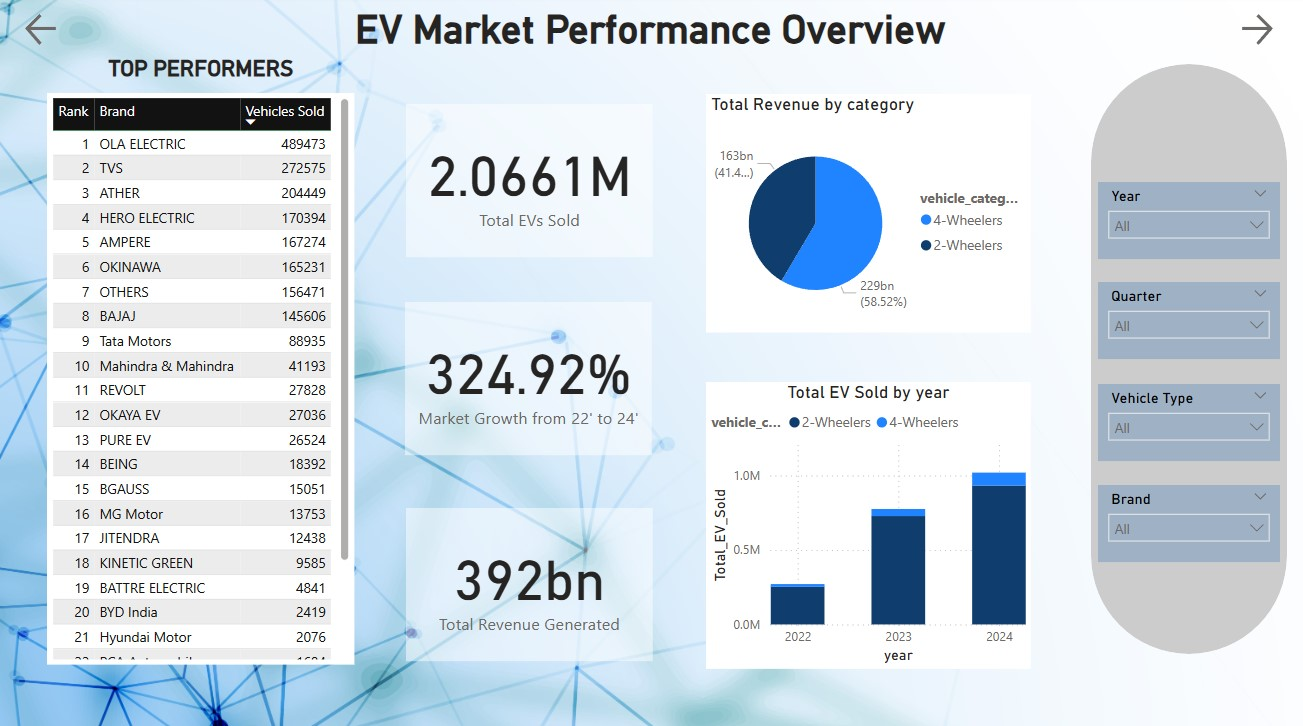

Layout of this report page (visuals, bound fields, positions):
{"tool":"powerbi","page":{"name":"Page 1","canvas":[1280,720],"ordinal":1},"visuals":[{"type":"shape","box":[1068,66.1,190.6,573.9],"z":0,"group":"g1"},{"type":"tableEx","fields":{"Values":["electric_vehicle_sales_by_maker.Rank_Sales","electric_vehicle_sales_by_maker.maker","electric_vehicle_sales_by_maker.Total_EV_Sold"]},"box":[52.5,94.3,298.6,556.4],"z":0},{"type":"textbox","box":[107,52.5,198.4,36],"z":1000},{"type":"slicer","fields":{"Values":["dim_date.fiscal_year"]},"box":[1074.8,180.9,177,74.9],"z":1000,"group":"g1"},{"type":"card","fields":{"Values":["electric_vehicle_sales_by_maker.Total_EV_Sold"]},"box":[401.7,105,240.2,148.8],"z":2000},{"type":"slicer","fields":{"Values":["dim_date.quarter"]},"box":[1074.8,278.1,177,74.9],"z":3000,"group":"g1"},{"type":"card","fields":{"Values":["electric_vehicle_sales_by_maker.Total_Growth"]},"box":[400.7,297.6,240.2,148.8],"z":3000},{"type":"card","fields":{"Values":["electric_vehicle_sales_by_maker.Total_Revenue"]},"box":[401.7,498,240.2,148.8],"z":4000},{"type":"slicer","fields":{"Values":["electric_vehicle_sales_by_maker.vehicle_category"]},"box":[1074.8,377.3,177,74.9],"z":5000,"group":"g1"},{"type":"columnChart","title":"Total EV Sold by year","fields":{"Y":["electric_vehicle_sales_by_maker.Total_EV_Sold"],"Category":["dim_date.fiscal_year"],"Series":["electric_vehicle_sales_by_maker.vehicle_category"]},"box":[693.5,375.4,316.1,279.1],"z":5000},{"type":"group","id":"g1","title":"Group 1","box":[1068,66.1,190.6,573.9],"z":6000},{"type":"pieChart","title":"Total Revenue by category","fields":{"Category":["electric_vehicle_sales_by_maker.vehicle_category"],"Y":["electric_vehicle_sales_by_maker.Total_Revenue"]},"box":[693.5,95.3,316.1,232.5],"z":7000},{"type":"slicer","fields":{"Values":["electric_vehicle_sales_by_maker.maker"]},"box":[1074.8,475.6,177,74.9],"z":7000,"group":"g1"},{"type":"actionButton","box":[1209,12.6,42.8,39.9],"z":7001},{"type":"actionButton","box":[27.2,12.6,46.7,39.9],"z":7002},{"type":"textbox","box":[123.5,4.9,1032,61.3],"z":7003}]}

Visuals, with their boxes in screenshot pixels (x1, y1, x2, y2), scaled from the page's 1280x720 canvas onto the 1303x726 screenshot:
shape: 1087/67/1281/645
tableEx - electric_vehicle_sales_by_maker.Rank_Sales x electric_vehicle_sales_by_maker.maker: 53/95/357/656
textbox: 109/53/311/89
slicer - dim_date.fiscal_year: 1094/182/1274/258
card - electric_vehicle_sales_by_maker.Total_EV_Sold: 409/106/653/256
slicer - dim_date.quarter: 1094/280/1274/356
card - electric_vehicle_sales_by_maker.Total_Growth: 408/300/652/450
card - electric_vehicle_sales_by_maker.Total_Revenue: 409/502/653/652
slicer - electric_vehicle_sales_by_maker.vehicle_category: 1094/380/1274/456
"Total EV Sold by year" columnChart: 706/379/1028/660
"Group 1" group: 1087/67/1281/645
"Total Revenue by category" pieChart: 706/96/1028/331
slicer - electric_vehicle_sales_by_maker.maker: 1094/480/1274/555
actionButton: 1231/13/1274/53
actionButton: 28/13/75/53
textbox: 126/5/1176/67
